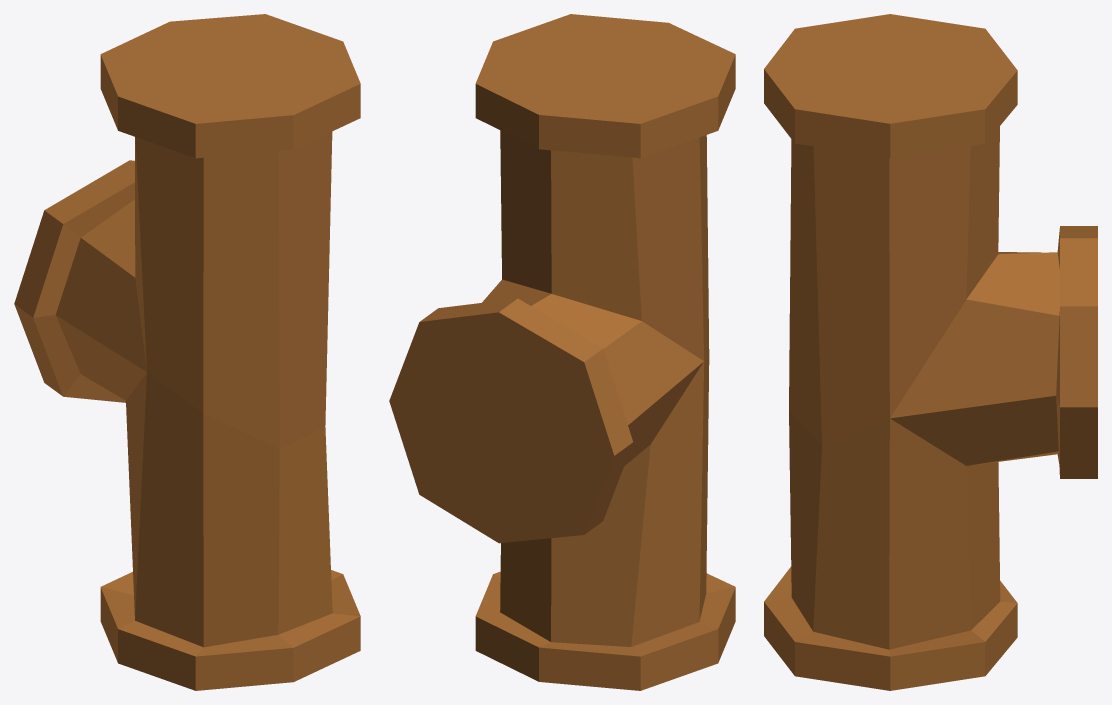
Rendered from Pipe_T.fbx.
3 views of the same model, side by side, from view 1: azimuth 30°, elevation 25°; view 2: azimuth 150°, elevation 25°; view 3: azimuth 270°, elevation 25° (orthographic).
Visible parts, largest first — view 1: Pipe_T; view 2: Pipe_T; view 3: Pipe_T.
Boxes of the visible parts, x1,y1,x2,y2 form: Pipe_T: (14,14,360,690); Pipe_T: (389,14,735,690); Pipe_T: (764,14,1097,690).
Size of the model in its own units: 250 by 602 by 321.
